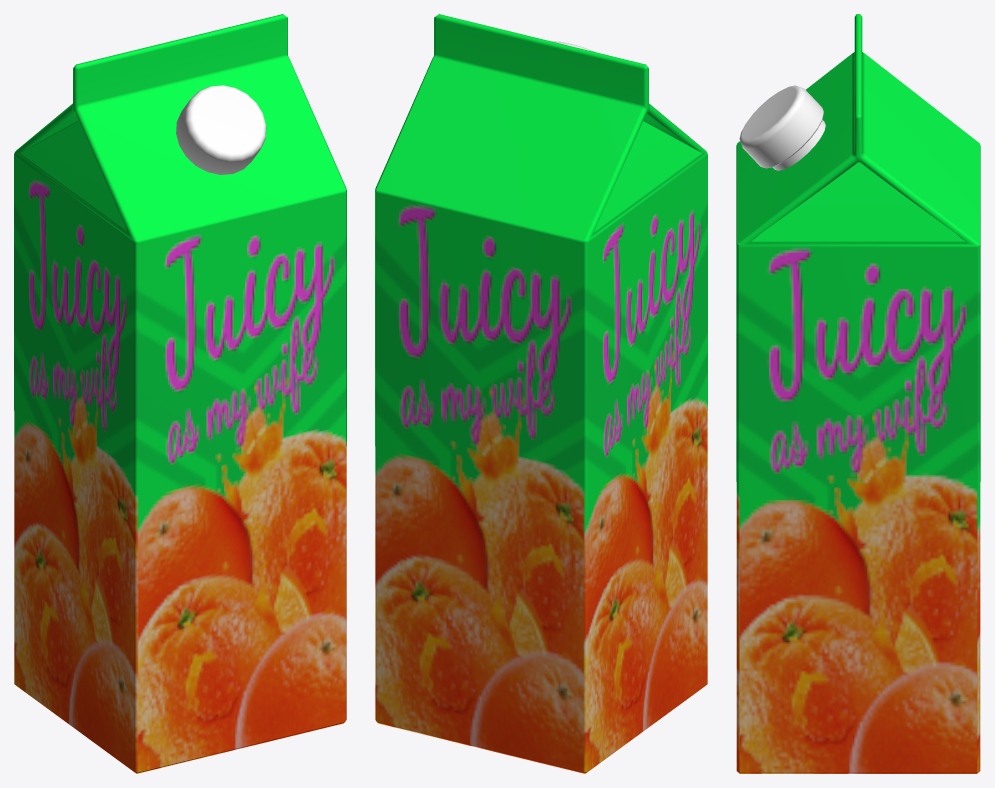
The model's file is Juice.fbx.
3 renders of one model, left to right at view 1: azimuth 30°, elevation 25°; view 2: azimuth 150°, elevation 25°; view 3: azimuth 270°, elevation 25°, orthographic.
Visible parts, largest first — view 1: Juice; view 2: Juice; view 3: Juice.
Boxes of the visible parts, x1=… form: Juice: x1=14, y1=14, x2=346, y2=773; Juice: x1=375, y1=14, x2=707, y2=773; Juice: x1=736, y1=14, x2=980, y2=773.
Bounding box in the file's own units: 12.21 × 36.31 × 12.18.
